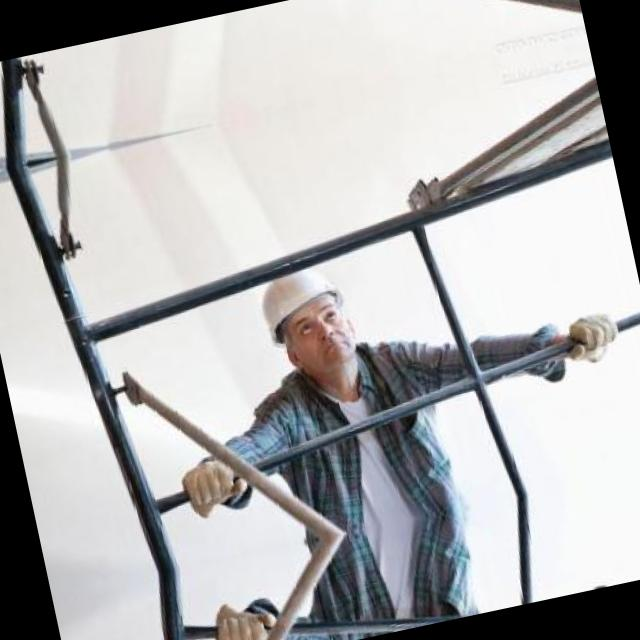helmet: (242, 247, 368, 398)
